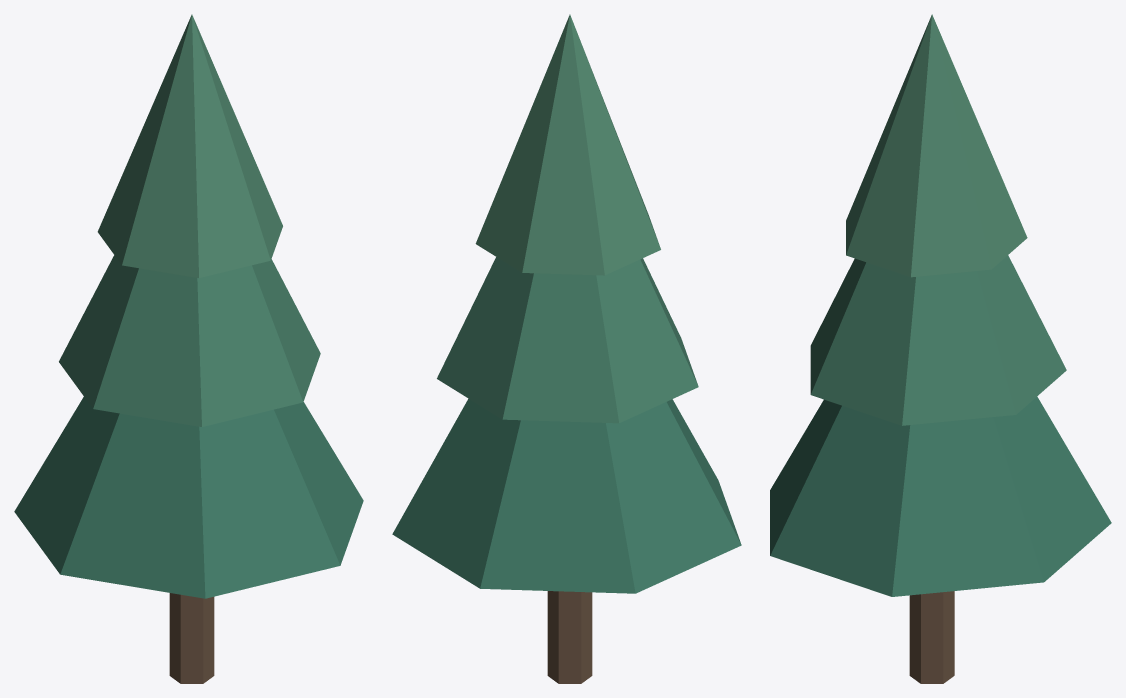
File: pine.glb
3 views of the same model, side by side, from view 1: azimuth 30°, elevation 25°; view 2: azimuth 150°, elevation 25°; view 3: azimuth 270°, elevation 25° (orthographic).
Visible parts, largest first — view 1: Pine crown 0, Pine crown 1, Pine crown 2, Pine trunk; view 2: Pine crown 0, Pine crown 1, Pine crown 2, Pine trunk; view 3: Pine crown 0, Pine crown 1, Pine crown 2, Pine trunk.
Boxes of the visible parts, <box> form: Pine crown 0: <box>14,397,363,598</box>; Pine crown 1: <box>59,255,320,426</box>; Pine crown 2: <box>97,14,282,277</box>; Pine trunk: <box>169,593,214,683</box>; Pine crown 0: <box>392,398,741,593</box>; Pine crown 1: <box>437,257,698,423</box>; Pine crown 2: <box>475,14,660,275</box>; Pine trunk: <box>547,591,592,683</box>; Pine crown 0: <box>770,396,1111,596</box>; Pine crown 1: <box>810,255,1066,425</box>; Pine crown 2: <box>846,14,1027,277</box>; Pine trunk: <box>909,591,954,683</box>.
Size of the model in its own units: 3.12 by 6.5 by 3.04.
